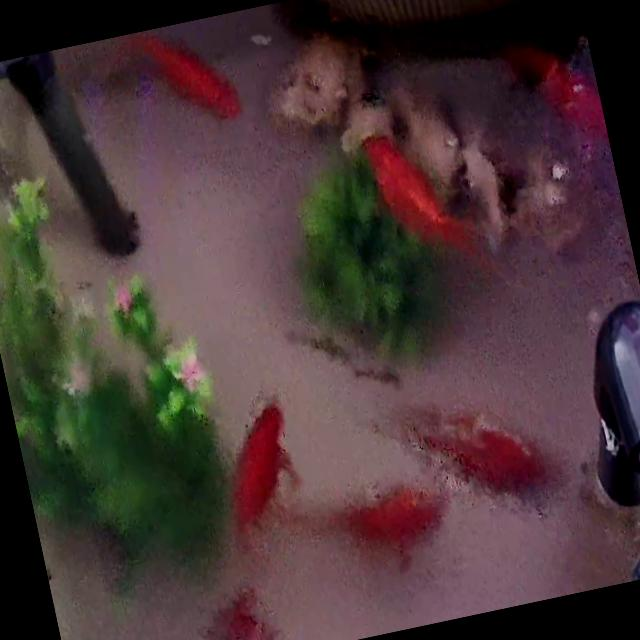fish: (87, 15, 238, 145), (364, 118, 486, 278), (207, 396, 310, 551), (504, 27, 610, 164), (416, 399, 545, 506), (347, 482, 447, 572), (203, 579, 280, 640)
